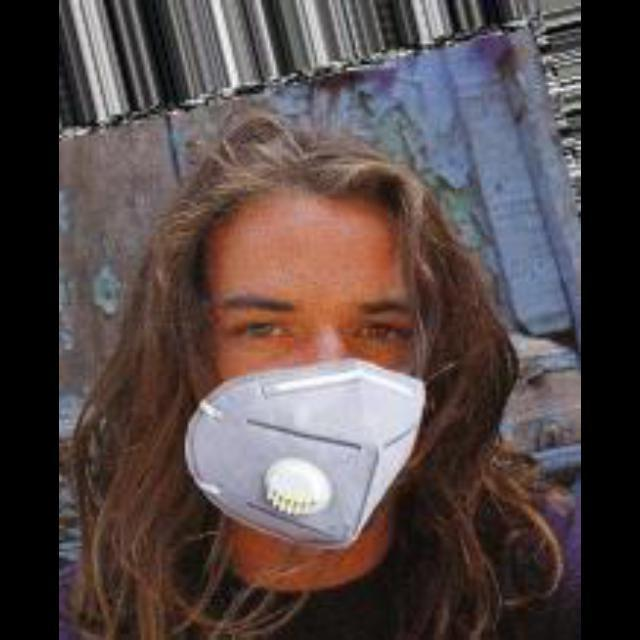suspicion: (190, 161, 448, 569)
